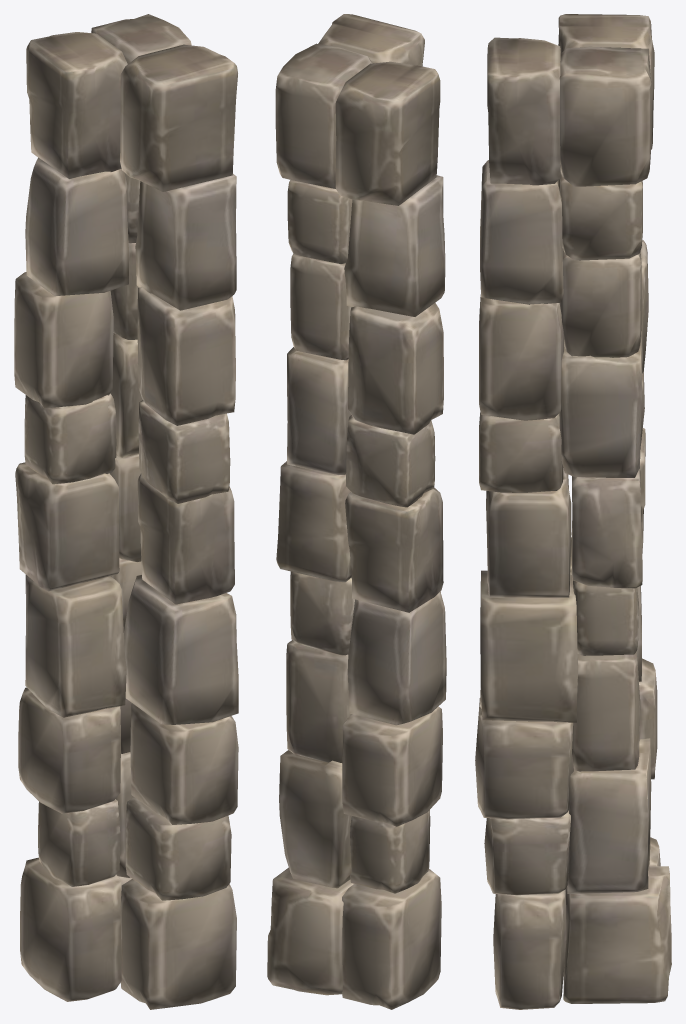
Rendered from corner_brick.glb.
The picture shows the model from 3 angles, left to right: view 1: azimuth 30°, elevation 25°; view 2: azimuth 150°, elevation 25°; view 3: azimuth 270°, elevation 25°; orthographic projection. The views are drawn at different scales.
Parts seen in each view (by area): view 1: Corner_Exterior_Brick; view 2: Corner_Exterior_Brick; view 3: Corner_Exterior_Brick.
Part boxes in pixels (bbox=[...]): Corner_Exterior_Brick: bbox=[14, 14, 238, 1009]; Corner_Exterior_Brick: bbox=[267, 14, 446, 1009]; Corner_Exterior_Brick: bbox=[475, 14, 671, 1009].
Bounding box in the file's own units: 0.5305 × 3.02 × 0.5758.
1 material, 1 textured.
